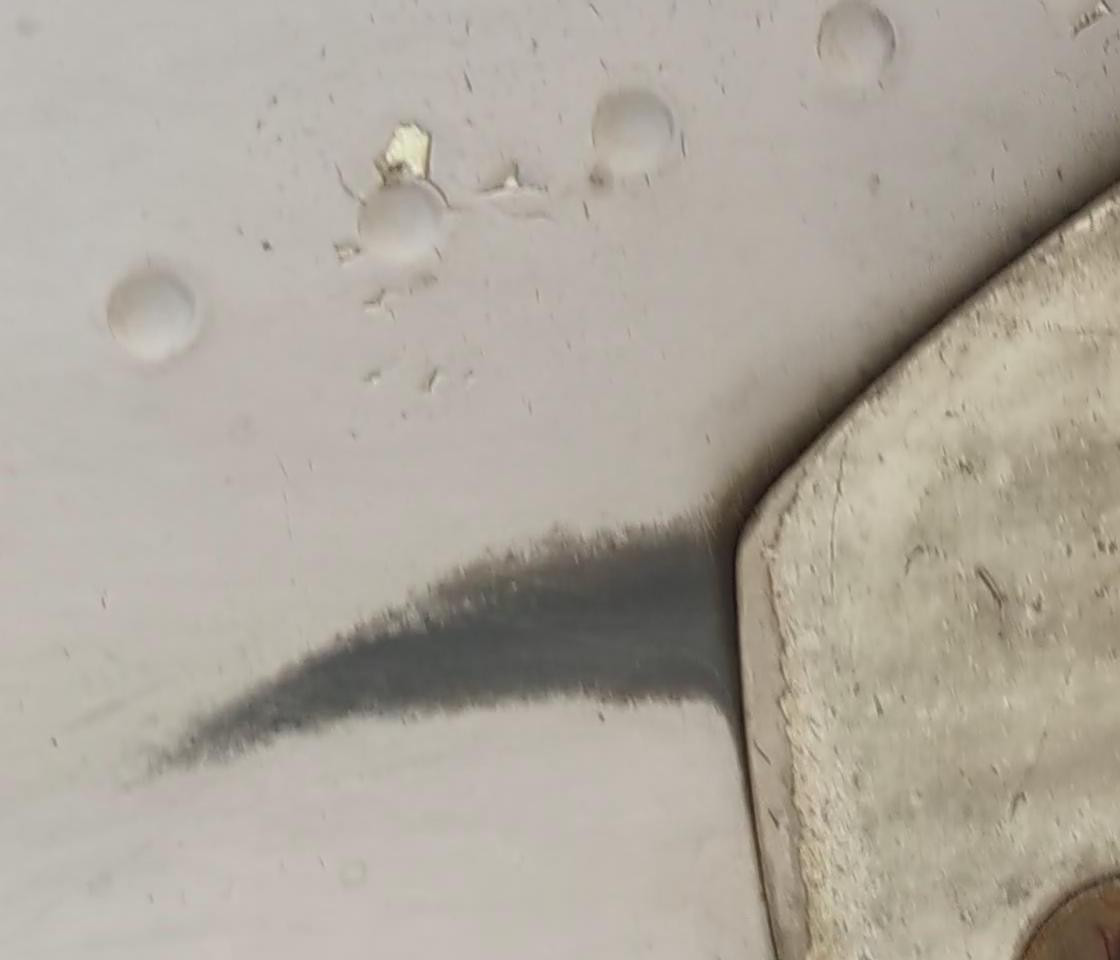paint_peel: (353, 109, 447, 197)
